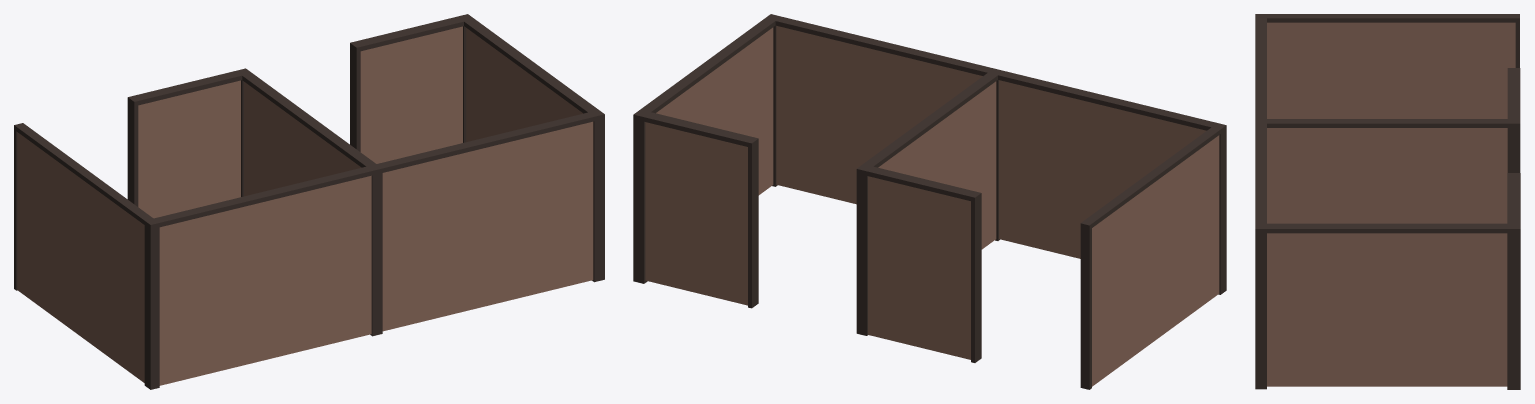
Rendered from CageDuo.fbx.
3 views of the same model, side by side, from view 1: azimuth 30°, elevation 25°; view 2: azimuth 150°, elevation 25°; view 3: azimuth 270°, elevation 25° (orthographic). The views are drawn at different scales.
Visible parts, largest first — view 1: CageDuo; view 2: CageDuo; view 3: CageDuo.
Part boxes in pixels (x1=…): CageDuo: x1=14, y1=14, x2=604, y2=389; CageDuo: x1=633, y1=14, x2=1226, y2=389; CageDuo: x1=1255, y1=14, x2=1520, y2=389.
Size of what is drawn, in the model's own units: 403 by 141 by 210.
